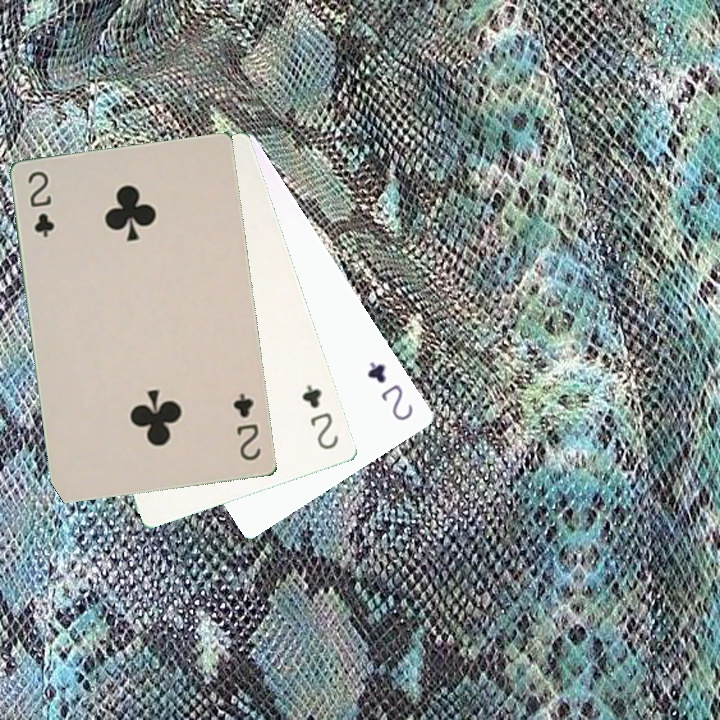2c: (363, 357, 416, 424), (298, 380, 341, 452), (229, 389, 264, 463), (23, 167, 57, 240)
